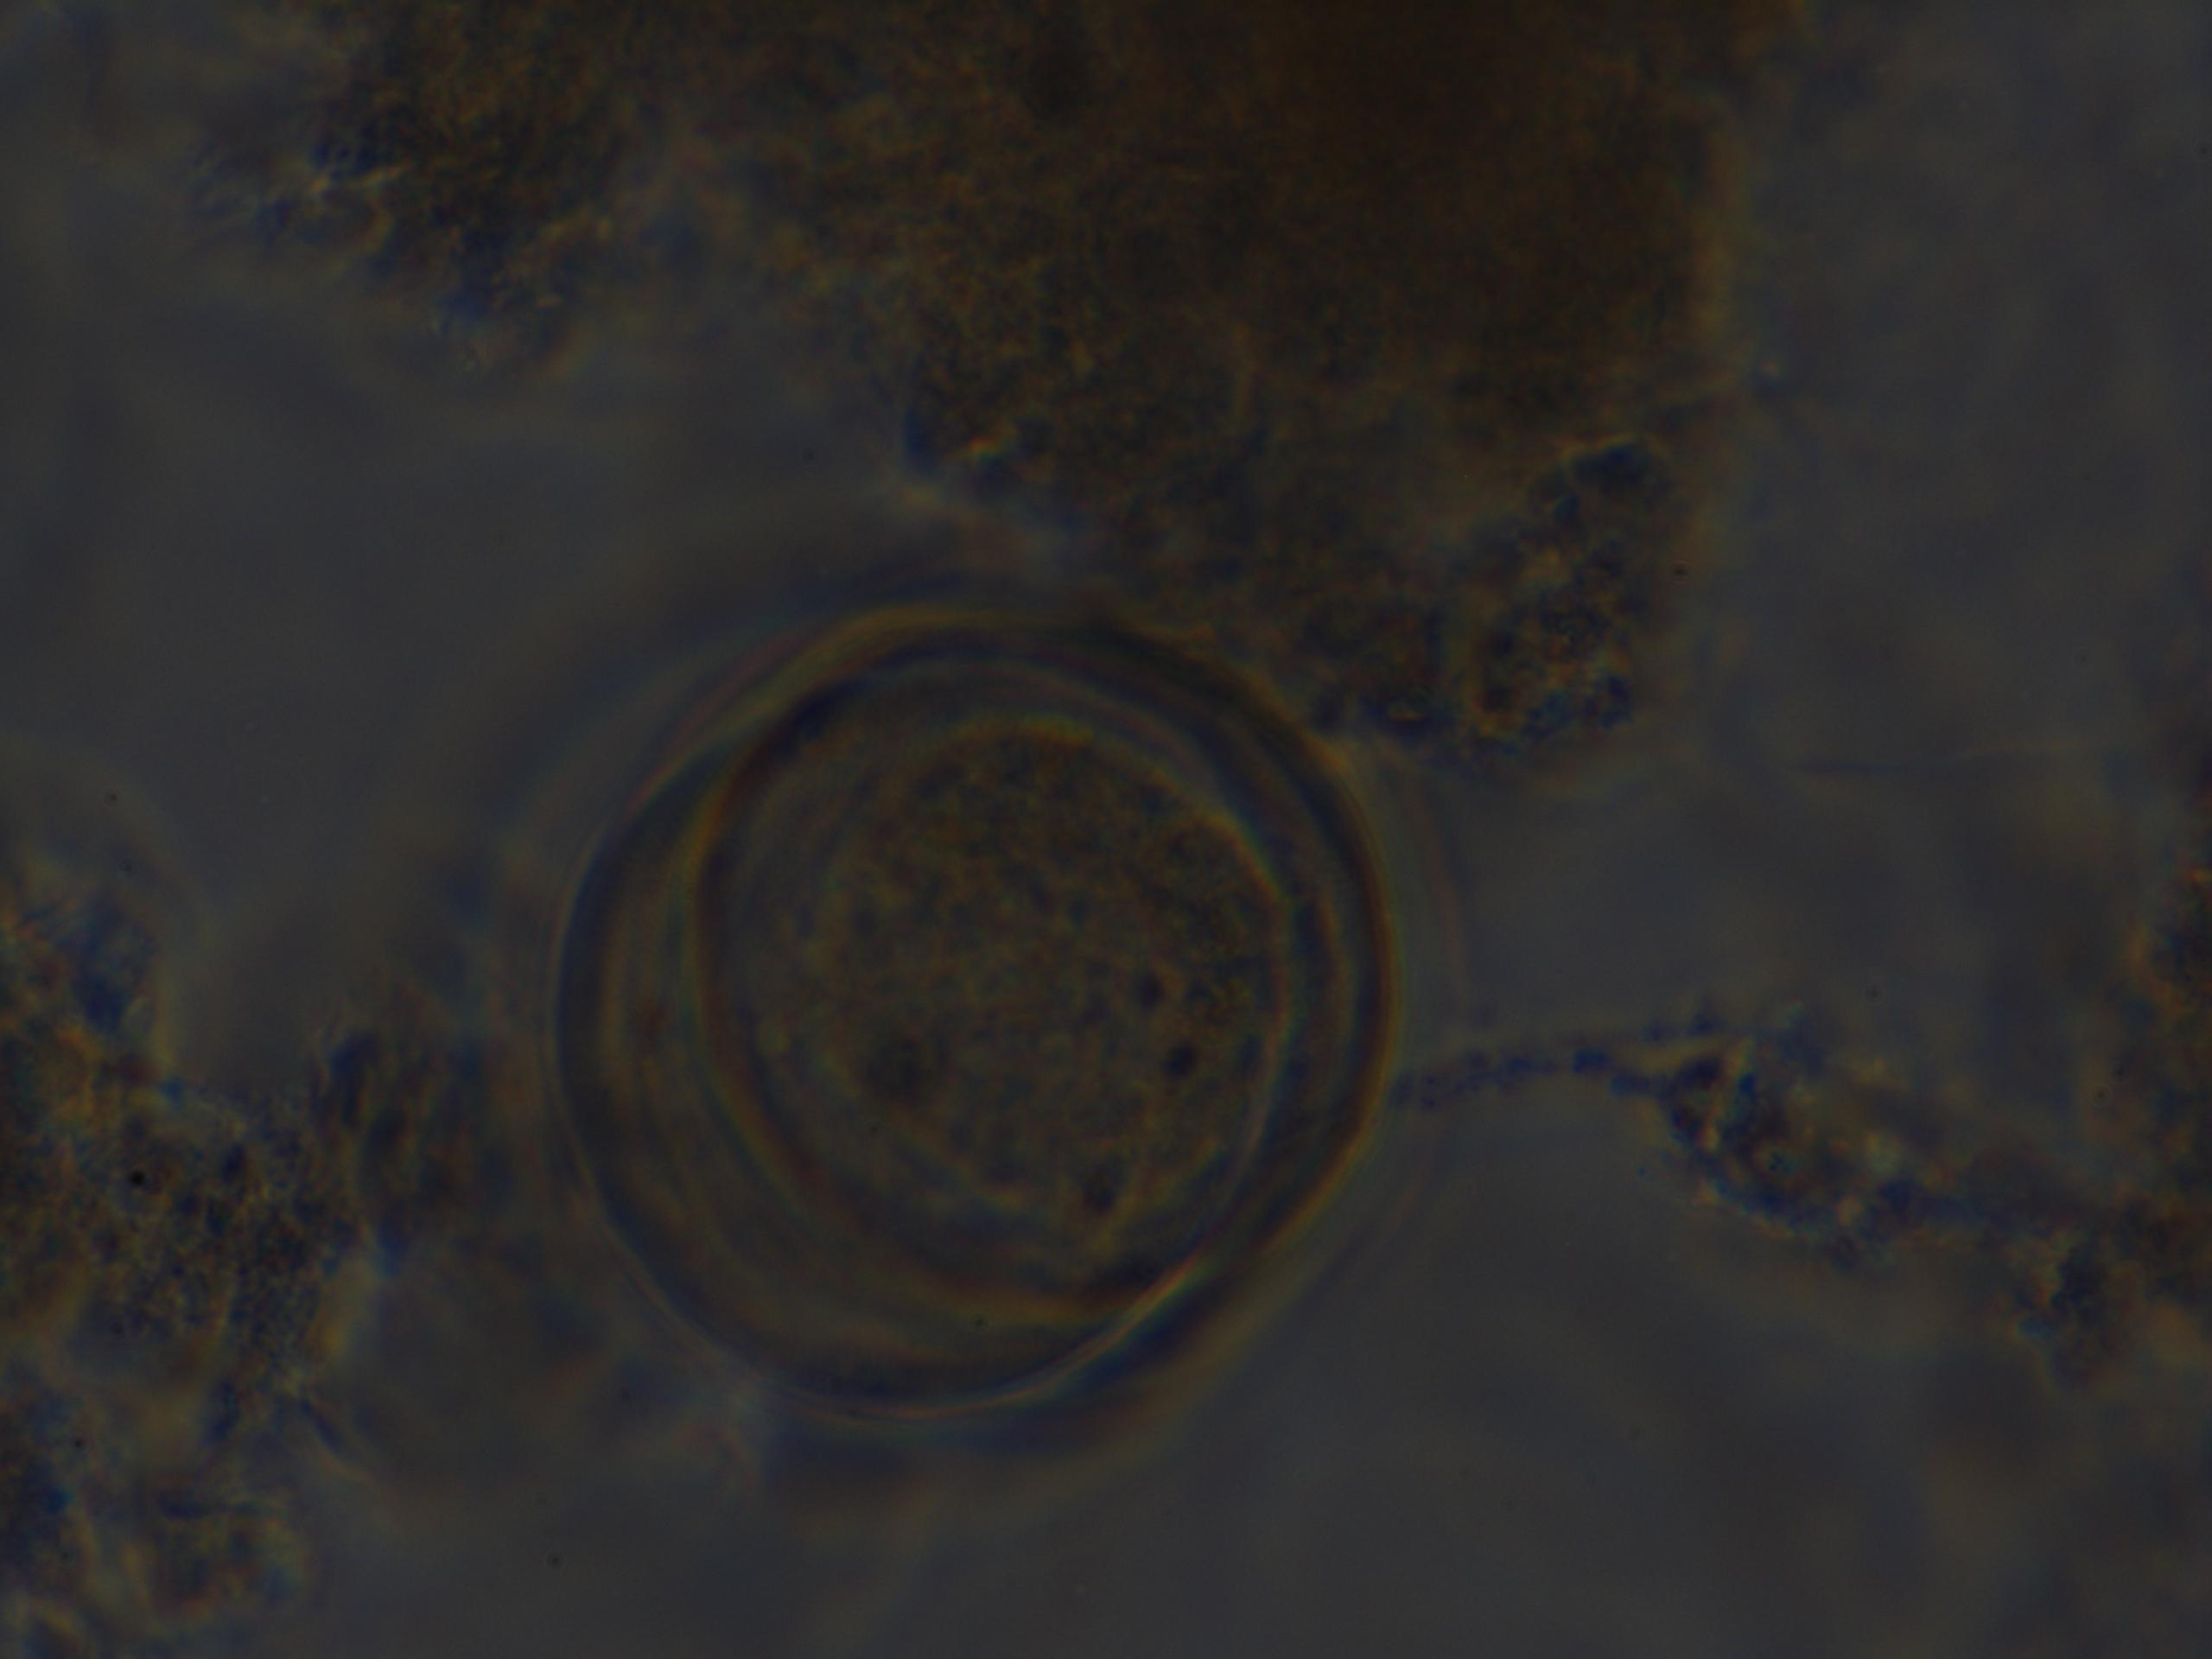filament: (1399, 997, 2209, 1347)
